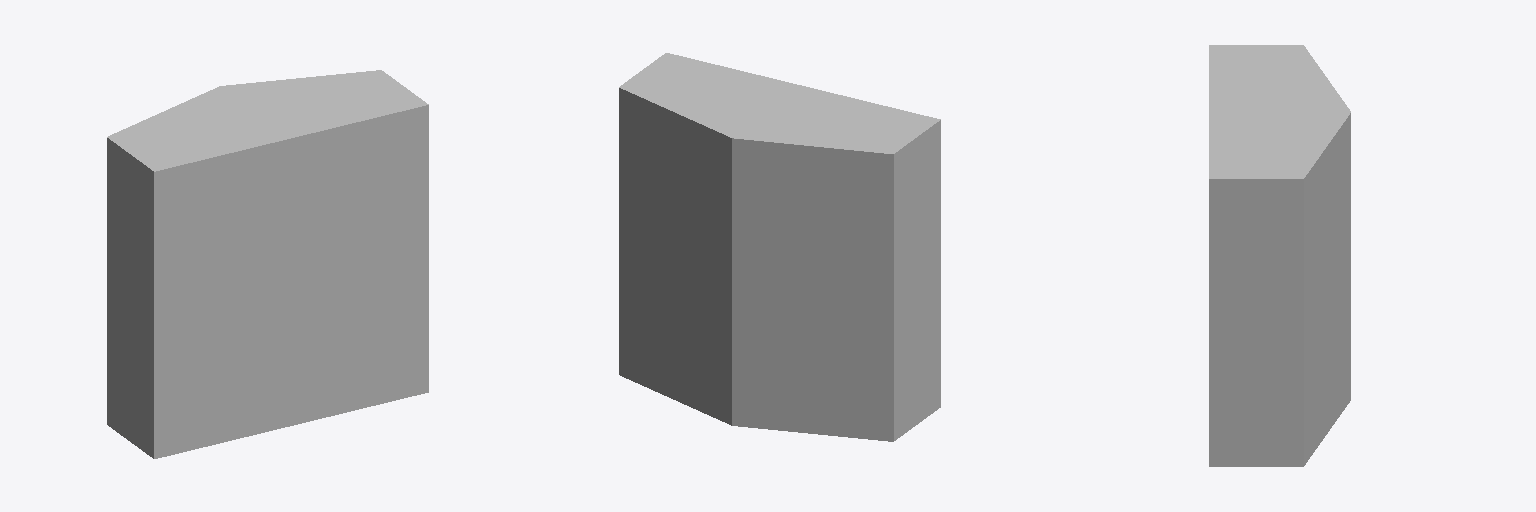
The model's file is Cliff_Mid_Straight.obj.
The picture shows the model from 3 angles: view 1: azimuth 30°, elevation 25°; view 2: azimuth 150°, elevation 25°; view 3: azimuth 270°, elevation 25°; orthographic projection.
Visible parts, largest first — view 1: object1; view 2: object1; view 3: object1.
Part boxes in pixels (x1,y1,x2,y2): object1: (107, 70, 428, 458); object1: (619, 53, 940, 441); object1: (1209, 45, 1350, 466).
Size of the model in its own units: 1 by 1 by 0.45.